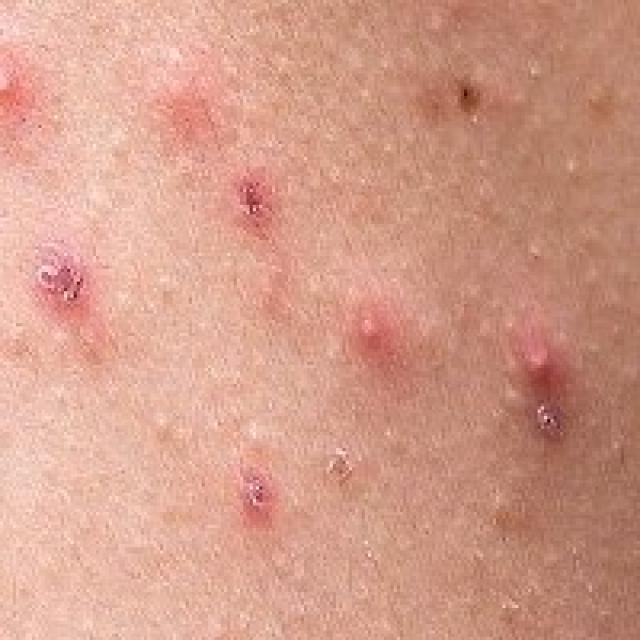acne: (483, 320, 589, 458), (316, 282, 419, 396), (208, 444, 368, 516), (208, 138, 294, 246), (12, 230, 102, 330), (410, 48, 492, 150), (0, 32, 64, 141)
